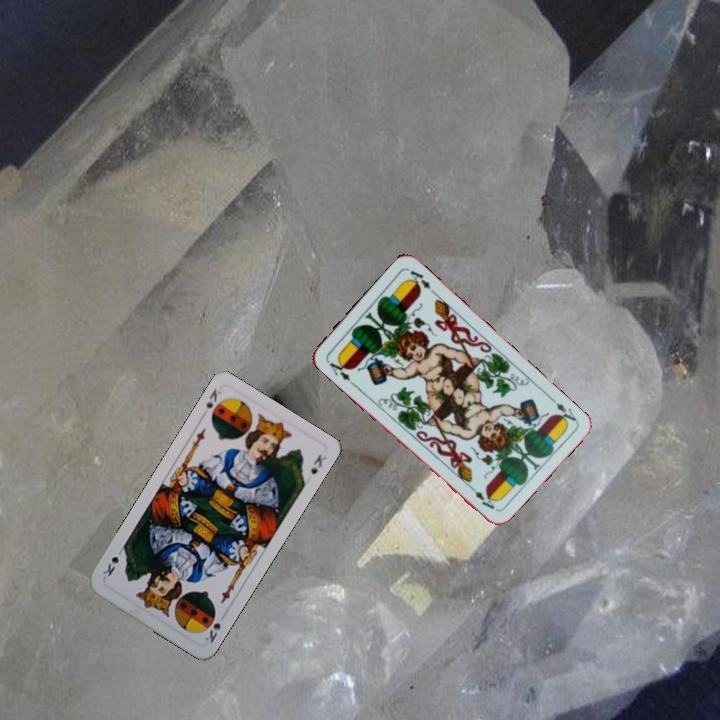EA: (545, 393, 579, 428), (323, 354, 353, 384)
SK: (199, 384, 225, 422), (201, 619, 223, 646)
